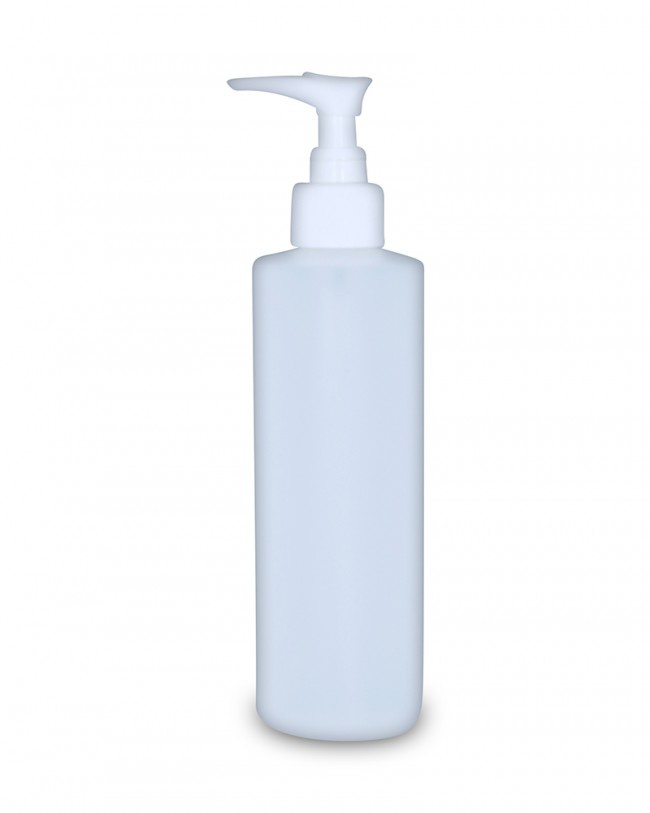emptybottle: (251, 75, 423, 743)
